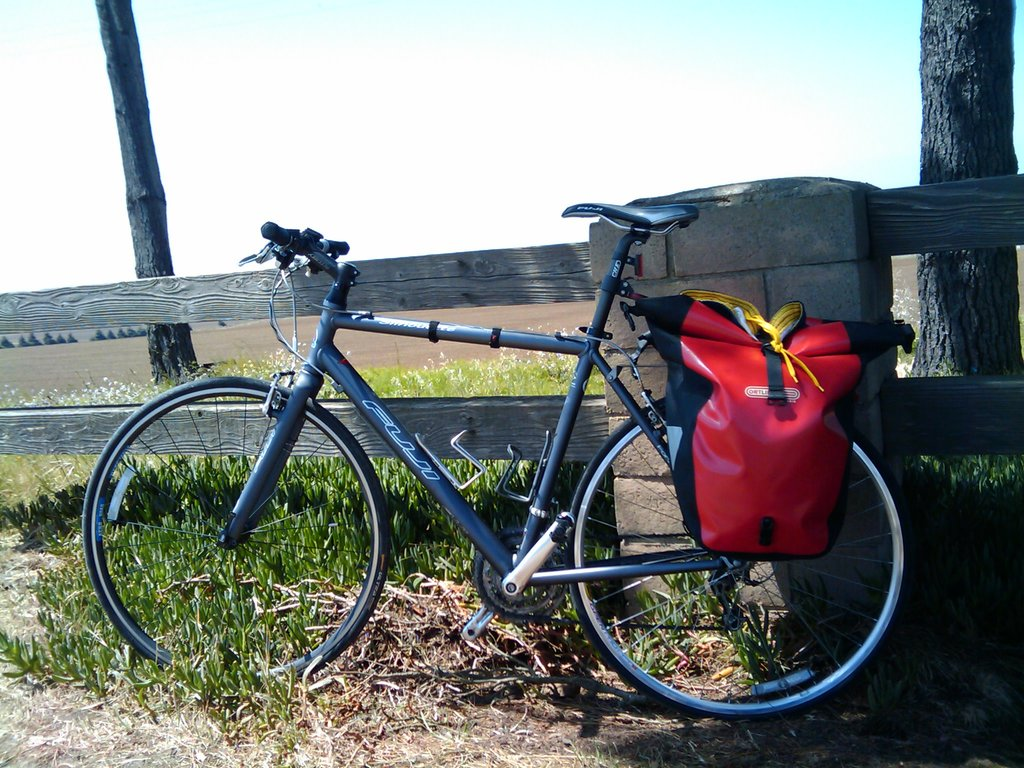Bike_toward: (45, 247, 954, 728)
